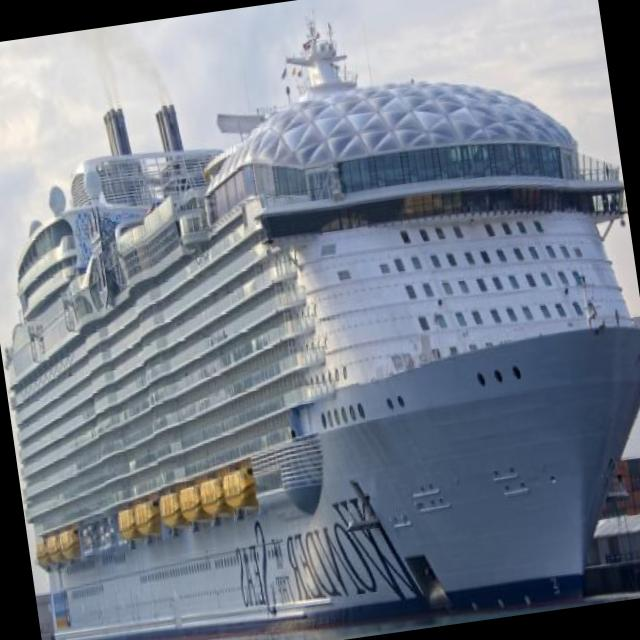Cruise: (7, 25, 640, 640)
